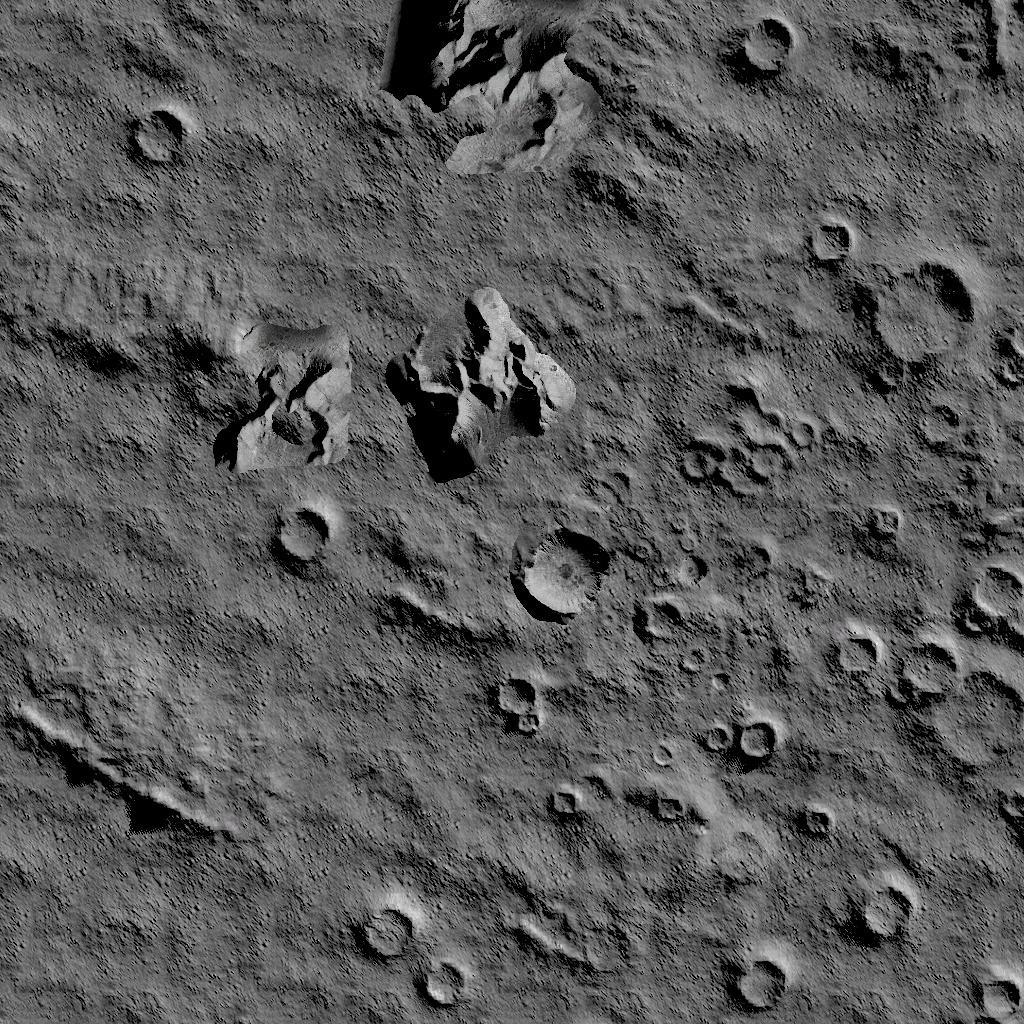Boulders: (5, 260, 358, 470), (378, 0, 652, 218), (12, 686, 234, 876), (382, 286, 580, 486), (364, 516, 496, 660), (0, 120, 30, 245)
Crater: (825, 566, 1024, 768), (864, 256, 1024, 456), (669, 360, 817, 510), (346, 896, 468, 1015), (510, 510, 622, 630), (634, 540, 706, 654), (116, 102, 208, 186), (716, 2, 803, 90), (838, 868, 924, 951), (260, 496, 344, 580), (692, 704, 782, 767), (945, 954, 1020, 1024), (719, 948, 793, 1016), (488, 671, 546, 740), (798, 210, 856, 269), (538, 766, 590, 824), (790, 794, 842, 844), (637, 779, 689, 828), (989, 782, 1024, 850), (856, 496, 904, 544)
Plan surface: (5, 494, 251, 668), (6, 894, 332, 1024), (255, 686, 473, 858), (743, 102, 1024, 190), (241, 46, 353, 237)
